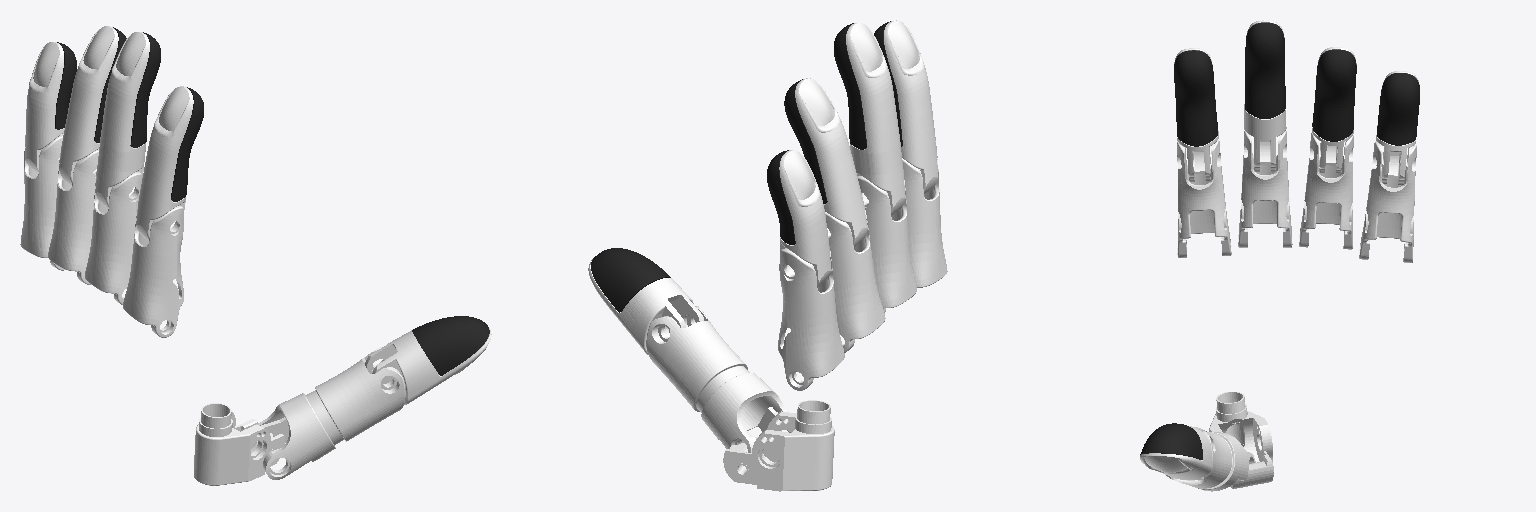
URDF robot description (DH116-L000-A1):
<?xml version="1.0" encoding="utf-8"?>
<!--
     This URDF was automatically created by SolidWorks to URDF Exporter! Originally created by Stephen Brawner (brawner@gmail.com)
  
         Commit Version: 1.6.0-4-g7f85cfe  Build Version: 1.6.7995.38578
  
         For more information, please see http://wiki.ros.org/sw_urdf_exporter
-->
<robot
  name="DH116-L000-A1">
  <!--
    Authoritative coupling description for this hand comes from the repository README formulas.
    
    Independent DOFs: finger11, finger12, finger21, finger31, finger41, finger51
    Passive follower joints:
      finger13 follows finger12: y = 0.0082x2 + 0.8808x + 0.2631
      finger22 follows finger21: y = 0.0035x2 + 0.9206x + 0.6344
      finger32 follows finger31: y = 0.0035x2 + 0.9206x + 0.6344
      finger42 follows finger41: y = 0.0035x2 + 0.9206x + 0.6344
      finger52 follows finger51: y = 0.0035x2 + 0.9206x + 0.6344
    
    Note: URDF mimic supports only linear coupling:
      q_follower = multiplier * q_driver + offset
    The mimic tags below preserve the original DH116 geometry, inertial values, joint
    origins, axes, and limits. They encode only the first-order coefficient and the
    constant term from the README formulas. Offsets are converted from degrees to radians.
  -->
  <link
    name="base_link">
    <inertial>
      <origin
        xyz="-0.004908 -0.0023087 0.053425"
        rpy="0 0 0" />
      <mass
        value="0.11674" />
      <inertia
        ixx="8.8343E-05"
        ixy="-1.5779E-07"
        ixz="2.7103E-06"
        iyy="5.7065E-05"
        iyz="4.0956E-07"
        izz="4.4559E-05" />
    </inertial>
    <visual>
      <origin
        xyz="0 0 0"
        rpy="0 0 0" />
      <geometry>
        <mesh
          filename="package://DH116-L000-A1/meshes/base_link.STL" />
      </geometry>
      <material
        name="">
        <color
          rgba="1 1 1 1" />
      </material>
    </visual>
    <collision>
      <origin
        xyz="0 0 0"
        rpy="0 0 0" />
      <geometry>
        <mesh
          filename="package://DH116-L000-A1/meshes/base_link.STL" />
      </geometry>
    </collision>
  </link>
  <link
    name="finger11_link">
    <inertial>
      <origin
        xyz="0.0078225 -0.0020462 0.00068777"
        rpy="0 0 0" />
      <mass
        value="0.010254" />
      <inertia
        ixx="7.2141E-07"
        ixy="1.1025E-07"
        ixz="1.8578E-07"
        iyy="1.1141E-06"
        iyz="-4.8596E-08"
        izz="1.144E-06" />
    </inertial>
    <visual>
      <origin
        xyz="0 0 0"
        rpy="0 0 0" />
      <geometry>
        <mesh
          filename="package://DH116-L000-A1/meshes/finger11_link.STL" />
      </geometry>
      <material
        name="">
        <color
          rgba="1 1 1 1" />
      </material>
    </visual>
    <collision>
      <origin
        xyz="0 0 0"
        rpy="0 0 0" />
      <geometry>
        <mesh
          filename="package://DH116-L000-A1/meshes/finger11_link.STL" />
      </geometry>
    </collision>
  </link>
  <joint
    name="finger11"
    type="revolute">
    <origin
      xyz="0.018 -0.021464 0.040041"
      rpy="0.087266 0 0" />
    <parent
      link="base_link" />
    <child
      link="finger11_link" />
    <axis
      xyz="0 0 1" />
    <limit
      lower="0"
      upper="1.047198"
      effort="0"
      velocity="0" />
  </joint>
  <link
    name="finger12_link">
    <inertial>
      <origin
        xyz="0.001442 5.4239E-07 0.024371"
        rpy="0 0 0" />
      <mass
        value="0.010117" />
      <inertia
        ixx="2.4721E-06"
        ixy="3.5819E-11"
        ixz="-8.7771E-08"
        iyy="2.2849E-06"
        iyz="1.0447E-12"
        izz="8.8673E-07" />
    </inertial>
    <visual>
      <origin
        xyz="0 0 0"
        rpy="0 0 0" />
      <geometry>
        <mesh
          filename="package://DH116-L000-A1/meshes/finger12_link.STL" />
      </geometry>
      <material
        name="">
        <color
          rgba="1 1 1 1" />
      </material>
    </visual>
    <collision>
      <origin
        xyz="0 0 0"
        rpy="0 0 0" />
      <geometry>
        <mesh
          filename="package://DH116-L000-A1/meshes/finger12_link.STL" />
      </geometry>
    </collision>
  </link>
  <joint
    name="finger12"
    type="revolute">
    <origin
      xyz="0.018876 -0.0049375 -0.0023593"
      rpy="0 0.95149 -0.25585" />
    <parent
      link="finger11_link" />
    <child
      link="finger12_link" />
    <axis
      xyz="0 -1 0" />
    <limit
      lower="0"
      upper="0.523599"
      effort="0"
      velocity="0" />
  </joint>
  <link
    name="finger13_link">
    <inertial>
      <origin
        xyz="0.0064864 1.9023E-06 0.014709"
        rpy="0 0 0" />
      <mass
        value="0.020548" />
      <inertia
        ixx="2.4642E-06"
        ixy="-1.8605E-10"
        ixz="-1.2758E-07"
        iyy="2.3554E-06"
        iyz="-2.9766E-10"
        izz="8.7678E-07" />
    </inertial>
    <visual>
      <origin
        xyz="0 0 0"
        rpy="0 0 0" />
      <geometry>
        <mesh
          filename="package://DH116-L000-A1/meshes/finger13_link.STL" />
      </geometry>
      <material
        name="">
        <color
          rgba="1 1 1 1" />
      </material>
    </visual>
    <collision>
      <origin
        xyz="0 0 0"
        rpy="0 0 0" />
      <geometry>
        <mesh
          filename="package://DH116-L000-A1/meshes/finger13_link.STL" />
      </geometry>
    </collision>
  </link>
  <joint
    name="finger13"
    type="revolute">
    <origin
      xyz="0 0 0.045"
      rpy="0 0 0" />
    <parent
      link="finger12_link" />
    <child
      link="finger13_link" />
    <axis
      xyz="0 -1 0" />
    <limit
      lower="0.004592"
      upper="0.594583"
      effort="0"
      velocity="0" />
    <mimic
      joint="finger12"
      multiplier="0.8808"
      offset="0.004592" />
  </joint>
  <link
    name="finger14_link">
    <inertial>
      <origin
        xyz="0.0030983 6.4415E-07 0.024752"
        rpy="0 0 0" />
      <mass
        value="0.00063385" />
      <inertia
        ixx="4.5297E-08"
        ixy="-1.7549E-11"
        ixz="-6.8692E-09"
        iyy="3.0365E-08"
        iyz="3.6154E-12"
        izz="3.2628E-08" />
    </inertial>
    <visual>
      <origin
        xyz="0 0 0"
        rpy="0 0 0" />
      <geometry>
        <mesh
          filename="package://DH116-L000-A1/meshes/finger14_link.STL" />
      </geometry>
      <material
        name="">
        <color
          rgba="0.2 0.2 0.2 1" />
      </material>
    </visual>
    <collision>
      <origin
        xyz="0 0 0"
        rpy="0 0 0" />
      <geometry>
        <mesh
          filename="package://DH116-L000-A1/meshes/finger14_link.STL" />
      </geometry>
    </collision>
  </link>
  <joint
    name="finger14"
    type="fixed">
    <origin
      xyz="0 0 0"
      rpy="0 0 0" />
    <parent
      link="finger13_link" />
    <child
      link="finger14_link" />
    <axis
      xyz="0 0 0" />
    <limit
      lower="0"
      upper="1.396263"
      effort="0"
      velocity="0" />
  </joint>
  <link
    name="finger21_link">
    <inertial>
      <origin
        xyz="-0.0017977 4.517E-07 0.018685"
        rpy="0 0 0" />
      <mass
        value="0.0067138" />
      <inertia
        ixx="1.195E-06"
        ixy="4.4817E-12"
        ixz="-4.5105E-09"
        iyy="1.0687E-06"
        iyz="1.3869E-11"
        izz="3.7302E-07" />
    </inertial>
    <visual>
      <origin
        xyz="0 0 0"
        rpy="0 0 0" />
      <geometry>
        <mesh
          filename="package://DH116-L000-A1/meshes/finger21_link.STL" />
      </geometry>
      <material
        name="">
        <color
          rgba="1 1 1 1" />
      </material>
    </visual>
    <collision>
      <origin
        xyz="0 0 0"
        rpy="0 0 0" />
      <geometry>
        <mesh
          filename="package://DH116-L000-A1/meshes/finger21_link.STL" />
      </geometry>
    </collision>
  </link>
  <joint
    name="finger21"
    type="revolute">
    <origin
      xyz="-0.011581 -0.031971 0.10003"
      rpy="0.052657 0.10625 0.0055894" />
    <parent
      link="base_link" />
    <child
      link="finger21_link" />
    <axis
      xyz="0 1 0" />
    <limit
      lower="0"
      upper="1.396263"
      effort="0"
      velocity="0" />
  </joint>
  <link
    name="finger22_link">
    <inertial>
      <origin
        xyz="-0.001934 -4.4573E-07 0.02175"
        rpy="0 0 0" />
      <mass
        value="0.014791" />
      <inertia
        ixx="1.4669E-06"
        ixy="-1.8909E-11"
        ixz="-1.6607E-07"
        iyy="1.4892E-06"
        iyz="5.6761E-11"
        izz="3.5283E-07" />
    </inertial>
    <visual>
      <origin
        xyz="0 0 0"
        rpy="0 0 0" />
      <geometry>
        <mesh
          filename="package://DH116-L000-A1/meshes/finger22_link.STL" />
      </geometry>
      <material
        name="">
        <color
          rgba="1 1 1 1" />
      </material>
    </visual>
    <collision>
      <origin
        xyz="0 0 0"
        rpy="0 0 0" />
      <geometry>
        <mesh
          filename="package://DH116-L000-A1/meshes/finger22_link.STL" />
      </geometry>
    </collision>
  </link>
  <joint
    name="finger22"
    type="revolute">
    <origin
      xyz="0 0 0.035"
      rpy="0 0 0" />
    <parent
      link="finger21_link" />
    <child
      link="finger22_link" />
    <axis
      xyz="0 1 0" />
    <limit
      lower="0.011072"
      upper="1.687426"
      effort="0"
      velocity="0" />
    <mimic
      joint="finger21"
      multiplier="0.9206"
      offset="0.011072" />
  </joint>
  <link
    name="finger23_link">
    <inertial>
      <origin
        xyz="0.0027522 -5.9223E-07 0.027469"
        rpy="0 0 0" />
      <mass
        value="0.00081811" />
      <inertia
        ixx="1.0639E-07"
        ixy="-3.5393E-13"
        ixz="-9.0804E-09"
        iyy="9.4373E-08"
        iyz="7.1781E-12"
        izz="2.3583E-08" />
    </inertial>
    <visual>
      <origin
        xyz="0 0 0"
        rpy="0 0 0" />
      <geometry>
        <mesh
          filename="package://DH116-L000-A1/meshes/finger23_link.STL" />
      </geometry>
      <material
        name="">
        <color
          rgba="0.2 0.2 0.2 1" />
      </material>
    </visual>
    <collision>
      <origin
        xyz="0 0 0"
        rpy="0 0 0" />
      <geometry>
        <mesh
          filename="package://DH116-L000-A1/meshes/finger23_link.STL" />
      </geometry>
    </collision>
  </link>
  <joint
    name="finger23"
    type="fixed">
    <origin
      xyz="0 0 0"
      rpy="0 0 0" />
    <parent
      link="finger22_link" />
    <child
      link="finger23_link" />
    <axis
      xyz="0 0 0" />
    <limit
      lower="0.011072"
      upper="1.687426"
      effort="0"
      velocity="0" />
  </joint>
  <link
    name="finger31_link">
    <inertial>
      <origin
        xyz="-0.0017977 3.6375E-07 0.018685"
        rpy="0 0 0" />
      <mass
        value="0.0067137" />
      <inertia
        ixx="1.195E-06"
        ixy="7.1207E-12"
        ixz="-4.5072E-09"
        iyy="1.0687E-06"
        iyz="1.6816E-11"
        izz="3.7302E-07" />
    </inertial>
    <visual>
      <origin
        xyz="0 0 0"
        rpy="0 0 0" />
      <geometry>
        <mesh
          filename="package://DH116-L000-A1/meshes/finger31_link.STL" />
      </geometry>
      <material
        name="">
        <color
          rgba="1 1 1 1" />
      </material>
    </visual>
    <collision>
      <origin
        xyz="0 0 0"
        rpy="0 0 0" />
      <geometry>
        <mesh
          filename="package://DH116-L000-A1/meshes/finger31_link.STL" />
      </geometry>
    </collision>
  </link>
  <joint
    name="finger31"
    type="revolute">
    <origin
      xyz="-0.013501 -0.0105 0.10286"
      rpy="0 0.10214 0" />
    <parent
      link="base_link" />
    <child
      link="finger31_link" />
    <axis
      xyz="0 1 0" />
    <limit
      lower="0"
      upper="1.396263"
      effort="0"
      velocity="0" />
  </joint>
  <link
    name="finger32_link">
    <inertial>
      <origin
        xyz="-0.0021235 -2.8524E-07 0.024937"
        rpy="0 0 0" />
      <mass
        value="0.017437" />
      <inertia
        ixx="4.1693E-06"
        ixy="-2.5515E-11"
        ixz="-2.6509E-07"
        iyy="4.1909E-06"
        iyz="9.5471E-11"
        izz="4.4314E-07" />
    </inertial>
    <visual>
      <origin
        xyz="0 0 0"
        rpy="0 0 0" />
      <geometry>
        <mesh
          filename="package://DH116-L000-A1/meshes/finger32_link.STL" />
      </geometry>
      <material
        name="">
        <color
          rgba="1 1 1 1" />
      </material>
    </visual>
    <collision>
      <origin
        xyz="0 0 0"
        rpy="0 0 0" />
      <geometry>
        <mesh
          filename="package://DH116-L000-A1/meshes/finger32_link.STL" />
      </geometry>
    </collision>
  </link>
  <joint
    name="finger32"
    type="revolute">
    <origin
      xyz="0 0 0.035"
      rpy="0 0 0" />
    <parent
      link="finger31_link" />
    <child
      link="finger32_link" />
    <axis
      xyz="0 1 0" />
    <limit
      lower="0.011072"
      upper="1.687426"
      effort="0"
      velocity="0" />
    <mimic
      joint="finger31"
      multiplier="0.9206"
      offset="0.011072" />
  </joint>
  <link
    name="finger33_link">
    <inertial>
      <origin
        xyz="7.153E-07 -0.0067137 -0.037473"
        rpy="0 0 0" />
      <mass
        value="0.00081807" />
      <inertia
        ixx="9.4367E-08"
        ixy="7.2819E-13"
        ixz="7.4794E-12"
        iyy="1.0642E-07"
        iyz="-8.9658E-09"
        izz="2.3554E-08" />
    </inertial>
    <visual>
      <origin
        xyz="0 0 0"
        rpy="0 0 0" />
      <geometry>
        <mesh
          filename="package://DH116-L000-A1/meshes/finger33_link.STL" />
      </geometry>
      <material
        name="">
        <color
          rgba="0.2 0.2 0.2 1" />
      </material>
    </visual>
    <collision>
      <origin
        xyz="0 0 0"
        rpy="0 0 0" />
      <geometry>
        <mesh
          filename="package://DH116-L000-A1/meshes/finger33_link.STL" />
      </geometry>
    </collision>
  </link>
  <joint
    name="finger33"
    type="fixed">
    <origin
      xyz="0 0 0"
      rpy="0 0 0" />
    <parent
      link="finger32_link" />
    <child
      link="finger33_link" />
    <axis
      xyz="0 0 0" />
    <limit
      lower="0"
      upper="1.396263"
      effort="0"
      velocity="0" />
  </joint>
  <link
    name="finger41_link">
    <inertial>
      <origin
        xyz="-0.0017978 4.6307E-07 0.018685"
        rpy="0 0 0" />
      <mass
        value="0.0067137" />
      <inertia
        ixx="1.195E-06"
        ixy="-3.5541E-12"
        ixz="-4.505E-09"
        iyy="1.0687E-06"
        iyz="6.8595E-13"
        izz="3.7301E-07" />
    </inertial>
    <visual>
      <origin
        xyz="0 0 0"
        rpy="0 0 0" />
      <geometry>
        <mesh
          filename="package://DH116-L000-A1/meshes/finger41_link.STL" />
      </geometry>
      <material
        name="">
        <color
          rgba="1 1 1 1" />
      </material>
    </visual>
    <collision>
      <origin
        xyz="0 0 0"
        rpy="0 0 0" />
      <geometry>
        <mesh
          filename="package://DH116-L000-A1/meshes/finger41_link.STL" />
      </geometry>
    </collision>
  </link>
  <joint
    name="finger41"
    type="revolute">
    <origin
      xyz="-0.015081 0.010971 0.10183"
      rpy="-0.052889 0.14148 -0.0074648" />
    <parent
      link="base_link" />
    <child
      link="finger41_link" />
    <axis
      xyz="0 1 0" />
    <limit
      lower="0"
      upper="1.396263"
      effort="0"
      velocity="0" />
  </joint>
  <link
    name="finger42_link">
    <inertial>
      <origin
        xyz="-0.00099518 -3.8607E-07 0.021813"
        rpy="0 0 0" />
      <mass
        value="0.014791" />
      <inertia
        ixx="1.4505E-06"
        ixy="-2.9273E-11"
        ixz="-2.1339E-07"
        iyy="1.4892E-06"
        iyz="6.1801E-11"
        izz="3.692E-07" />
    </inertial>
    <visual>
      <origin
        xyz="0 0 0"
        rpy="0 0 0" />
      <geometry>
        <mesh
          filename="package://DH116-L000-A1/meshes/finger42_link.STL" />
      </geometry>
      <material
        name="">
        <color
          rgba="1 1 1 1" />
      </material>
    </visual>
    <collision>
      <origin
        xyz="0 0 0"
        rpy="0 0 0" />
      <geometry>
        <mesh
          filename="package://DH116-L000-A1/meshes/finger42_link.STL" />
      </geometry>
    </collision>
  </link>
  <joint
    name="finger42"
    type="revolute">
    <origin
      xyz="0 0 0.035"
      rpy="0 0 0" />
    <parent
      link="finger41_link" />
    <child
      link="finger42_link" />
    <axis
      xyz="0 1 0" />
    <limit
      lower="0.011072"
      upper="1.687426"
      effort="0"
      velocity="0" />
    <mimic
      joint="finger41"
      multiplier="0.9206"
      offset="0.011072" />
  </joint>
  <link
    name="finger43_link">
    <inertial>
      <origin
        xyz="0.0039329 -6.1523E-07 0.027325"
        rpy="0 0 0" />
      <mass
        value="0.00081812" />
      <inertia
        ixx="1.0545E-07"
        ixy="-2.6832E-13"
        ixz="-1.261E-08"
        iyy="9.4369E-08"
        iyz="6.0613E-12"
        izz="2.452E-08" />
    </inertial>
    <visual>
      <origin
        xyz="0 0 0"
        rpy="0 0 0" />
      <geometry>
        <mesh
          filename="package://DH116-L000-A1/meshes/finger43_link.STL" />
      </geometry>
      <material
        name="">
        <color
          rgba="0.2 0.2 0.2 1" />
      </material>
    </visual>
    <collision>
      <origin
        xyz="0 0 0"
        rpy="0 0 0" />
      <geometry>
        <mesh
          filename="package://DH116-L000-A1/meshes/finger43_link.STL" />
      </geometry>
    </collision>
  </link>
  <joint
    name="finger43"
    type="fixed">
    <origin
      xyz="0 0 0"
      rpy="0 0 0" />
    <parent
      link="finger42_link" />
    <child
      link="finger43_link" />
    <axis
      xyz="0 0 0" />
    <limit
      lower="0"
      upper="1.396263"
      effort="0"
      velocity="0" />
  </joint>
  <link
    name="finger51_link">
    <inertial>
      <origin
        xyz="-0.0017977 3.5129E-07 0.018685"
        rpy="0 0 0" />
      <mass
        value="0.0067139" />
      <inertia
        ixx="1.195E-06"
        ixy="2.1372E-12"
        ixz="-4.5117E-09"
        iyy="1.0687E-06"
        iyz="5.8565E-12"
        izz="3.7302E-07" />
    </inertial>
    <visual>
      <origin
        xyz="0 0 0"
        rpy="0 0 0" />
      <geometry>
        <mesh
          filename="package://DH116-L000-A1/meshes/finger51_link.STL" />
      </geometry>
      <material
        name="">
        <color
          rgba="1 1 1 1" />
      </material>
    </visual>
    <collision>
      <origin
        xyz="0 0 0"
        rpy="0 0 0" />
      <geometry>
        <mesh
          filename="package://DH116-L000-A1/meshes/finger51_link.STL" />
      </geometry>
    </collision>
  </link>
  <joint
    name="finger51"
    type="revolute">
    <origin
      xyz="-0.013081 0.032156 0.097798"
      rpy="-0.078754 0.073706 -0.0058113" />
    <parent
      link="base_link" />
    <child
      link="finger51_link" />
    <axis
      xyz="0 1 0" />
    <limit
      lower="0"
      upper="1.396263"
      effort="0"
      velocity="0" />
  </joint>
  <link
    name="finger52_link">
    <inertial>
      <origin
        xyz="-0.0024418 -8.1825E-07 0.016654"
        rpy="0 0 0" />
      <mass
        value="0.010439" />
      <inertia
        ixx="1.3354E-06"
        ixy="-3.1558E-11"
        ixz="-1.1834E-07"
        iyy="1.3473E-06"
        iyz="7.0815E-11"
        izz="2.4653E-07" />
    </inertial>
    <visual>
      <origin
        xyz="0 0 0"
        rpy="0 0 0" />
      <geometry>
        <mesh
          filename="package://DH116-L000-A1/meshes/finger52_link.STL" />
      </geometry>
      <material
        name="">
        <color
          rgba="1 1 1 1" />
      </material>
    </visual>
    <collision>
      <origin
        xyz="0 0 0"
        rpy="0 0 0" />
      <geometry>
        <mesh
          filename="package://DH116-L000-A1/meshes/finger52_link.STL" />
      </geometry>
    </collision>
  </link>
  <joint
    name="finger52"
    type="revolute">
    <origin
      xyz="0 0 0.035"
      rpy="0 0 0" />
    <parent
      link="finger51_link" />
    <child
      link="finger52_link" />
    <axis
      xyz="0 1 0" />
    <limit
      lower="0.011072"
      upper="1.687426"
      effort="0"
      velocity="0" />
    <mimic
      joint="finger51"
      multiplier="0.9206"
      offset="0.011072" />
  </joint>
  <link
    name="finger53_link">
    <inertial>
      <origin
        xyz="0.0021844 1.1224E-06 0.022782"
        rpy="0 0 0" />
      <mass
        value="0.00058044" />
      <inertia
        ixx="4.4456E-08"
        ixy="1.8383E-12"
        ixz="-3.5021E-09"
        iyy="3.5896E-08"
        iyz="-1.5936E-12"
        izz="1.5583E-08" />
    </inertial>
    <visual>
      <origin
        xyz="0 0 0"
        rpy="0 0 0" />
      <geometry>
        <mesh
          filename="package://DH116-L000-A1/meshes/finger53_link.STL" />
      </geometry>
      <material
        name="">
        <color
          rgba="0.2 0.2 0.2 1" />
      </material>
    </visual>
    <collision>
      <origin
        xyz="0 0 0"
        rpy="0 0 0" />
      <geometry>
        <mesh
          filename="package://DH116-L000-A1/meshes/finger53_link.STL" />
      </geometry>
    </collision>
  </link>
  <joint
    name="finger53"
    type="fixed">
    <origin
      xyz="0 0 0"
      rpy="0 0 0" />
    <parent
      link="finger52_link" />
    <child
      link="finger53_link" />
    <axis
      xyz="0 0 0" />
    <limit
      lower="0"
      upper="1.57"
      effort="0"
      velocity="0" />
  </joint>
</robot>

--- Facts derived from the render (not from the file) ---
3 views of the same robot in one strip: view 1: azimuth 30°, elevation 25°; view 2: azimuth 150°, elevation 25°; view 3: azimuth 270°, elevation 25° (orthographic).
Model DH116-L000-A1 with 17 links and 16 joints (11 revolute, 5 fixed), rooted at base_link, posed all joints at 0 but 5 set to mid-range because 0 is outside their limits (finger13 = 0.0046, finger22 = 0.0111, finger32 = 0.0111, finger42 = 0.0111, finger52 = 0.0111).
Visible links, largest first — view 1: finger12_link, finger21_link, finger32_link, finger11_link, finger31_link, finger22_link, finger42_link, finger41_link, finger52_link, finger51_link, finger13_link, finger14_link (+3 smaller); view 2: finger12_link, finger11_link, finger51_link, finger32_link, finger42_link, finger22_link, finger41_link, finger31_link, finger52_link, finger21_link, finger13_link, finger14_link (+3 smaller); view 3: finger51_link, finger31_link, finger21_link, finger41_link, finger33_link, finger23_link, finger43_link, finger11_link, finger53_link, finger12_link, finger13_link, finger32_link (+4 smaller).
Boxes of the visible links, x1,y1,x2,y2 form: finger12_link: (252,347,405,479); finger21_link: (123,206,183,337); finger32_link: (95,32,149,208); finger11_link: (194,403,284,485); finger31_link: (85,172,142,304); finger22_link: (136,86,193,240); finger42_link: (59,26,118,185); finger41_link: (48,149,98,284); finger52_link: (25,42,64,172); finger51_link: (20,134,63,270); finger13_link: (365,328,491,404); finger14_link: (412,316,489,375); finger12_link: (646,306,790,452); finger11_link: (723,400,834,491); finger51_link: (778,248,844,390); finger32_link: (846,23,905,215); finger42_link: (795,78,867,246); finger22_link: (884,20,937,194); finger41_link: (825,210,885,352); finger31_link: (857,176,916,312); finger52_link: (779,150,831,286); finger21_link: (902,158,947,297); finger13_link: (588,259,703,354); finger14_link: (591,248,670,312); finger51_link: (1359,142,1416,262); finger31_link: (1238,131,1292,247); finger21_link: (1177,140,1231,257); finger41_link: (1299,133,1353,249); finger33_link: (1245,23,1285,118); finger23_link: (1174,50,1217,146); finger43_link: (1312,50,1356,141); finger11_link: (1209,392,1273,488); finger53_link: (1377,73,1419,145); finger12_link: (1166,426,1255,491); finger13_link: (1140,426,1211,479); finger32_link: (1244,20,1286,171).
Bounding box of the posed robot: 0.1309 × 0.0986 × 0.162 m (x, y, z).
Meshes: 17 distinct files referenced, 16 mesh visuals loaded (16 binary STL); not drawn: 1 (reference not matched to a file when rendering).
